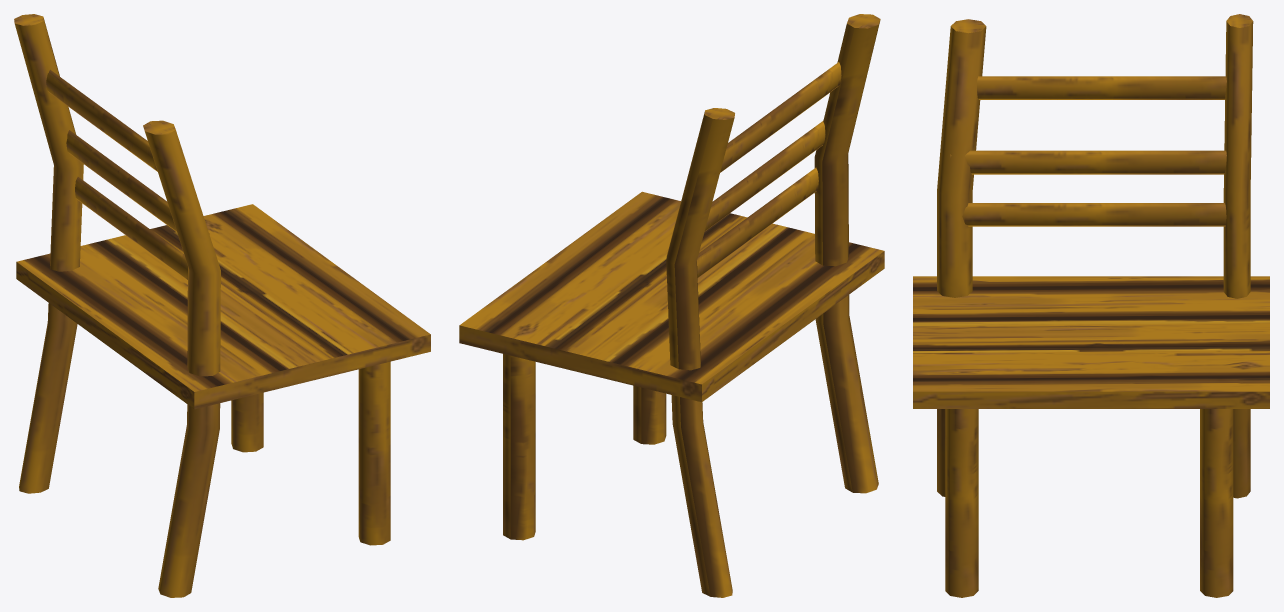
The model's file is chair2.FBX.
The picture shows the model from 3 angles, left to right: view 1: azimuth 30°, elevation 25°; view 2: azimuth 150°, elevation 25°; view 3: azimuth 270°, elevation 25°; orthographic projection. The views are drawn at different scales.
Parts seen in each view (by area): view 1: Box001; view 2: Box001; view 3: Box001.
Boxes of the visible parts, x1,y1,x2,y2 form: Box001: (14, 14, 430, 597); Box001: (459, 14, 884, 597); Box001: (913, 14, 1269, 597).
Size of the model in its own units: 25.12 by 43.49 by 30.
